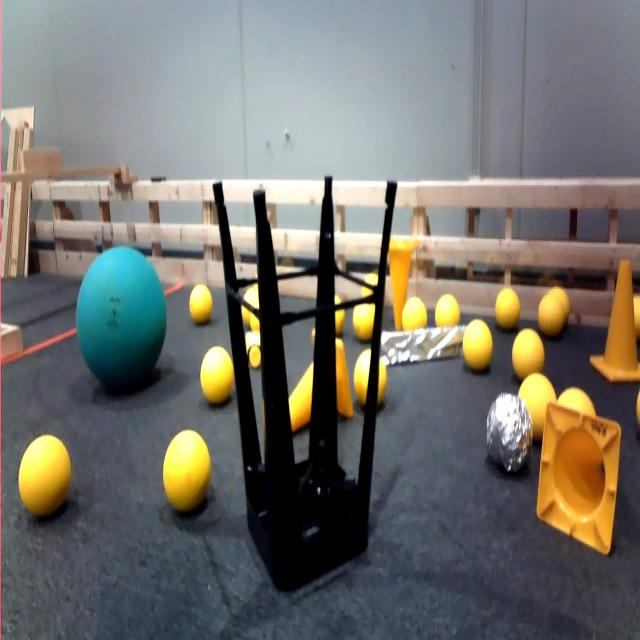fuel: (156, 417, 218, 522), (15, 429, 81, 526), (195, 338, 241, 419), (351, 347, 393, 411), (461, 308, 499, 376), (514, 372, 556, 430), (180, 270, 218, 332), (514, 324, 547, 383), (555, 386, 598, 429), (346, 292, 378, 344), (400, 292, 430, 344), (432, 290, 464, 336), (539, 284, 566, 336), (496, 280, 524, 330), (240, 284, 263, 338)
